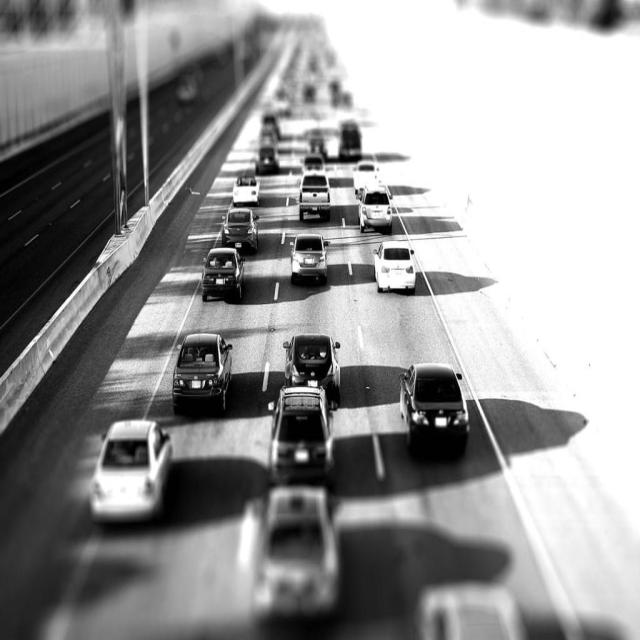car: (245, 479, 337, 615), (85, 414, 173, 517), (396, 360, 470, 458), (265, 379, 338, 473), (166, 322, 236, 411), (200, 243, 246, 299), (289, 231, 330, 282), (373, 241, 413, 290), (355, 183, 391, 231), (297, 170, 332, 219), (335, 121, 363, 161), (230, 174, 260, 202), (351, 159, 379, 189), (251, 142, 278, 169), (298, 151, 324, 169)
